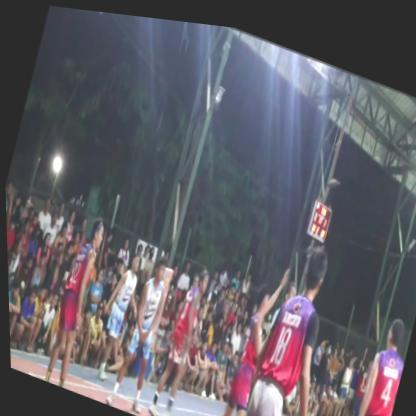rim: (66, 6, 117, 25)
